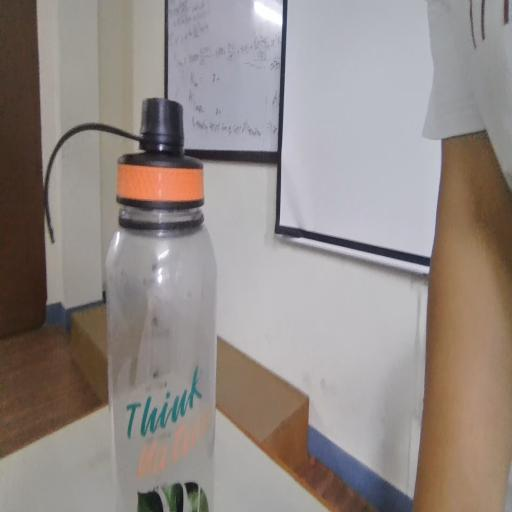Bottle: (95, 55, 205, 481)
